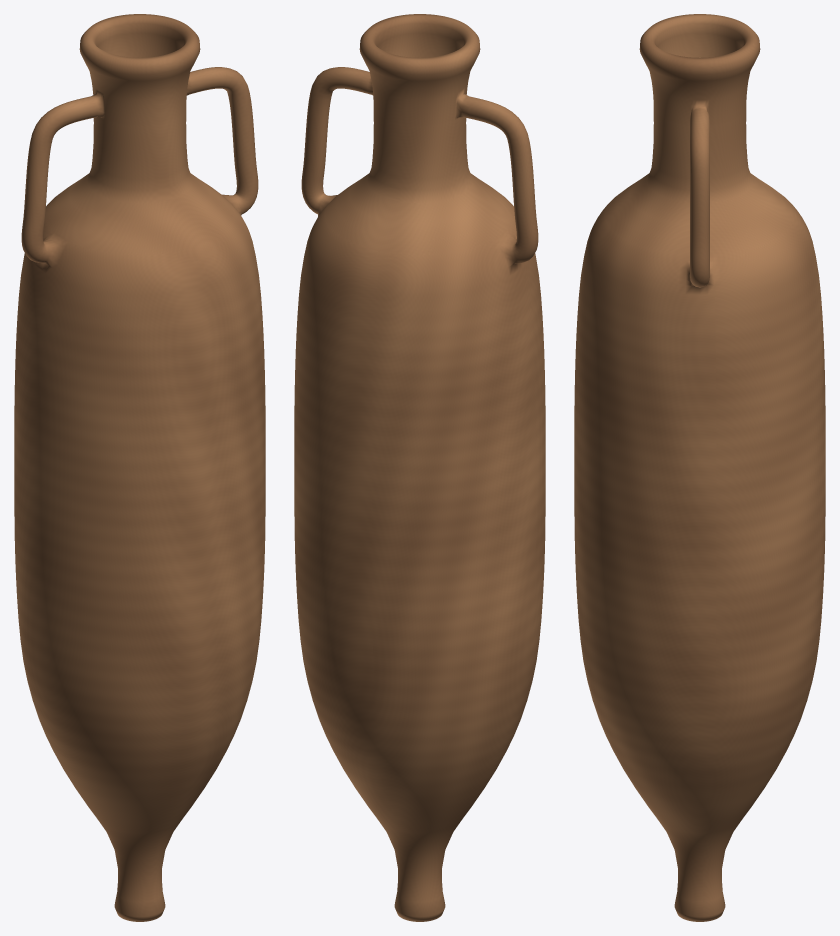
The model's file is NEW692_Amphora_LOD0.fbx.
3 views of the same model, side by side, from view 1: azimuth 30°, elevation 25°; view 2: azimuth 150°, elevation 25°; view 3: azimuth 270°, elevation 25° (orthographic).
Parts seen in each view (by area): view 1: Complete_open_amphora_with_two_connected_handles; view 2: Complete_open_amphora_with_two_connected_handles; view 3: Complete_open_amphora_with_two_connected_handles.
Boxes of the visible parts, left/top/right/bottom form: Complete_open_amphora_with_two_connected_handles: left=14, top=14, right=265, bottom=921; Complete_open_amphora_with_two_connected_handles: left=294, top=14, right=545, bottom=921; Complete_open_amphora_with_two_connected_handles: left=574, top=14, right=825, bottom=921.
Size of the model in its own units: 0.3077 by 1.1 by 0.2861.
1 material, 1 textured.
